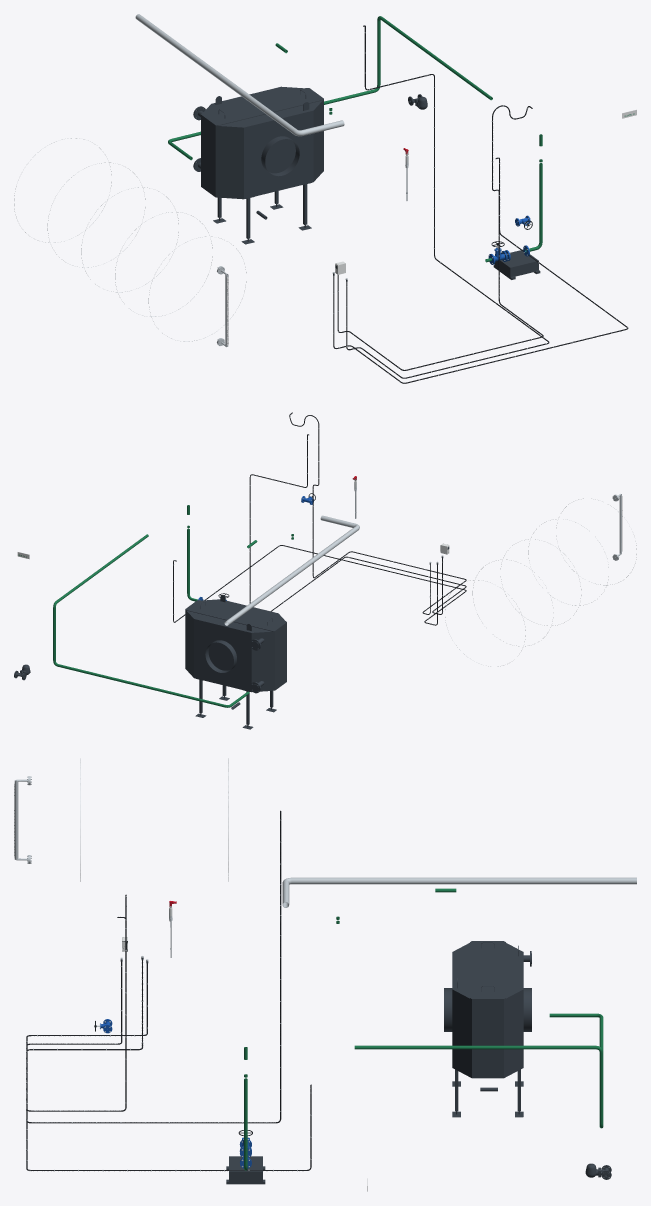
3 renders of one model, top to bottom at view 1: azimuth 30°, elevation 25°; view 2: azimuth 150°, elevation 25°; view 3: azimuth 270°, elevation 25°, orthographic. The views are drawn at different scales.
Parts seen in each view (by area): view 1: EQS2-4000 CAD 0, EQS2-4000 CAD 3, EQS2-4000 CAD 1, safety_vent_1 / steel, to_economizer / green, gpz_drive_cable / black, wiring_pump_2 / black, wiring_pressure_switch_2 / black, pump_branch_1 / dark, deaerator_details / steel; view 2: EQS2-4000 CAD 0, EQS2-4000 CAD 3, EQS2-4000 CAD 2, to_economizer / green, safety_vent_1 / steel, gpz_drive_cable / black, wiring_pressure_switch_2 / black, wiring_pump_2 / black, deaerator_details / steel; view 3: EQS2-4000 CAD 3, safety_vent_1 / steel, to_economizer / green, gpz_drive_cable / black, EQS2-4000 CAD 0, wiring_pressure_switch_2 / black, pump_branch_1 / dark, wiring_pump_2 / black, deaerator_details / steel.
Boxes of the visible parts, <box> form: EQS2-4000 CAD 0: <box>213,110,313,244</box>; EQS2-4000 CAD 3: <box>201,86,323,197</box>; EQS2-4000 CAD 1: <box>215,125,243,199</box>; safety_vent_1 / steel: <box>135,14,344,136</box>; to_economizer / green: <box>168,16,492,160</box>; gpz_drive_cable / black: <box>346,25,549,378</box>; wiring_pump_2 / black: <box>333,157,628,383</box>; wiring_pressure_switch_2 / black: <box>337,105,543,370</box>; pump_branch_1 / dark: <box>493,249,540,279</box>; deaerator_details / steel: <box>14,138,246,347</box>; EQS2-4000 CAD 0: <box>194,619,276,729</box>; EQS2-4000 CAD 3: <box>185,595,286,690</box>; EQS2-4000 CAD 2: <box>250,631,274,693</box>; to_economizer / green: <box>53,534,249,707</box>; safety_vent_1 / steel: <box>224,515,359,625</box>; gpz_drive_cable / black: <box>249,434,466,614</box>; wiring_pressure_switch_2 / black: <box>289,412,466,614</box>; wiring_pump_2 / black: <box>173,545,466,625</box>; deaerator_details / steel: <box>445,494,636,666</box>; EQS2-4000 CAD 3: <box>452,941,523,1078</box>; safety_vent_1 / steel: <box>282,877,636,907</box>; to_economizer / green: <box>354,1013,603,1128</box>; gpz_drive_cable / black: <box>26,810,281,1123</box>; EQS2-4000 CAD 0: <box>444,988,531,1117</box>; wiring_pressure_switch_2 / black: <box>26,894,147,1111</box>; pump_branch_1 / dark: <box>226,1156,265,1184</box>; wiring_pump_2 / black: <box>26,960,311,1170</box>; deaerator_details / steel: <box>14,758,228,881</box>.
Size of the model in its own units: 9.02 by 3.71 by 7.17.
